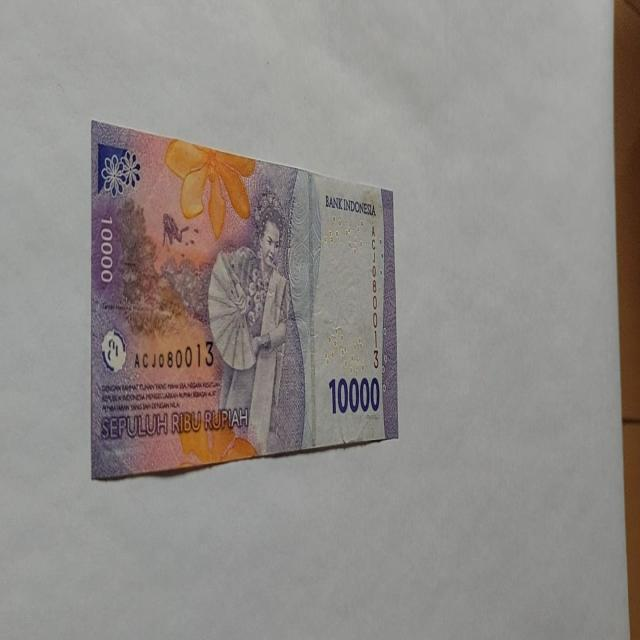sepuluh ribu rupiah: (89, 119, 399, 480)
